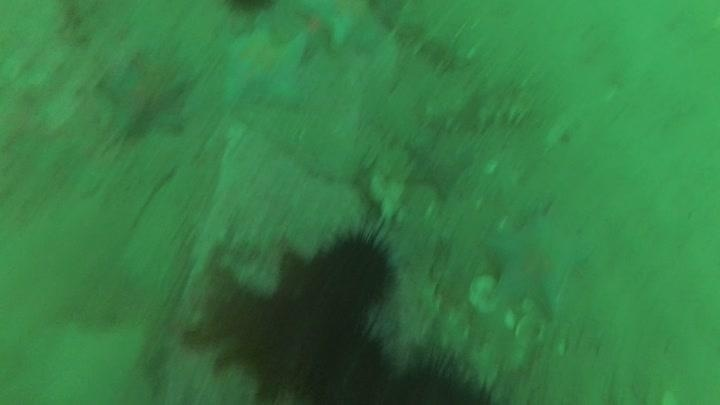echinus: (297, 317, 395, 403), (307, 227, 398, 319), (379, 344, 498, 404), (217, 1, 279, 25)
holothurian: (418, 74, 538, 136), (383, 7, 471, 72)
starfish: (483, 207, 592, 317), (216, 18, 312, 110), (99, 52, 193, 141), (284, 1, 391, 58), (402, 127, 477, 200)
